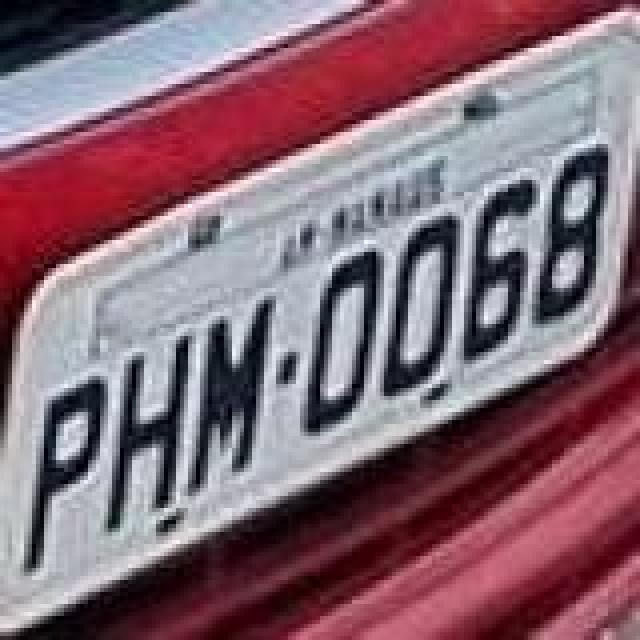6: (458, 176, 534, 368)
8: (534, 142, 618, 330)
H: (108, 334, 196, 538)
M: (184, 298, 280, 502)
O: (300, 248, 388, 440), (376, 212, 464, 404)
P: (20, 366, 108, 578)
